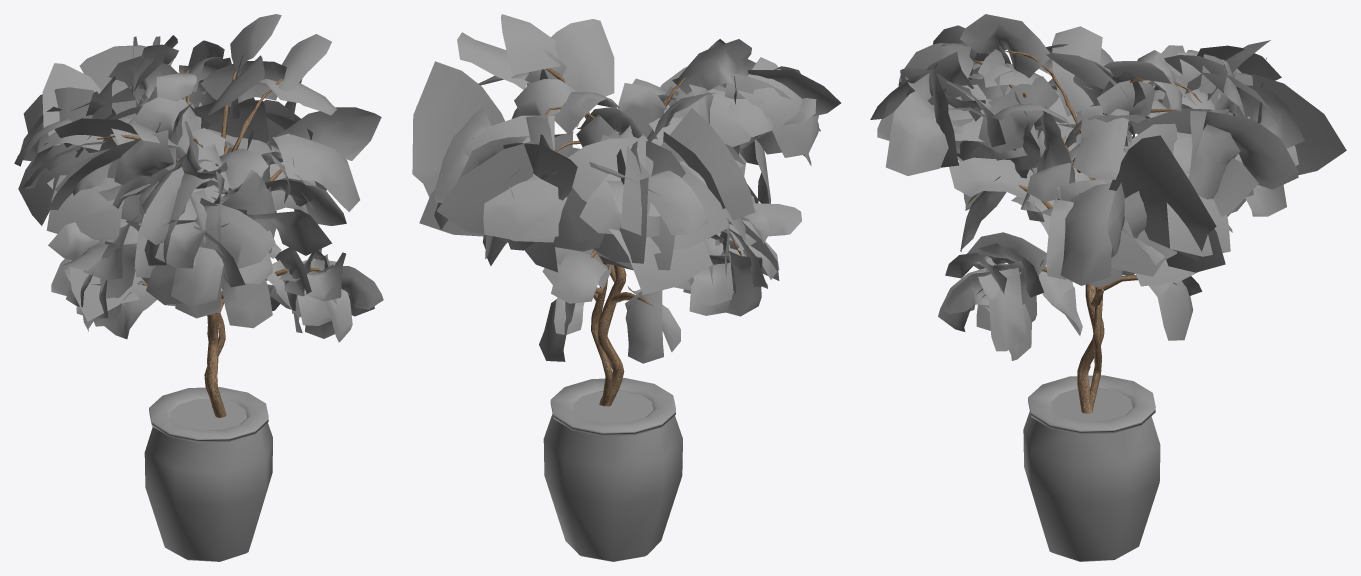
File: Ficus2_Leaf_lod0.fbx
3 views of the same model, side by side, from view 1: azimuth 30°, elevation 25°; view 2: azimuth 150°, elevation 25°; view 3: azimuth 270°, elevation 25° (orthographic). The views are drawn at different scales.
Parts seen in each view (by area): view 1: Ficus2_Leaf_lod0; view 2: Ficus2_Leaf_lod0; view 3: Ficus2_Leaf_lod0.
Part boxes in pixels (box(x1,y1,x2,y2)): Ficus2_Leaf_lod0: box(14, 14, 383, 561); Ficus2_Leaf_lod0: box(412, 14, 840, 561); Ficus2_Leaf_lod0: box(870, 14, 1346, 561).
Size of the model in its own units: 115 by 160 by 130.
Materials: 3 (1 with a texture image).
